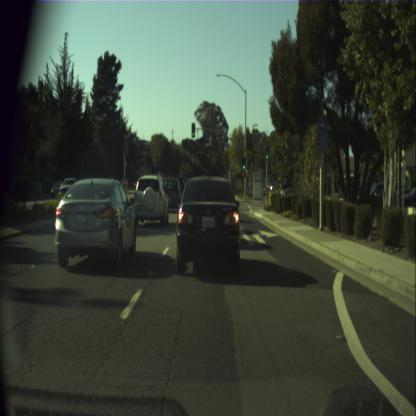Green: (191, 122, 195, 136), (242, 156, 245, 170), (266, 146, 269, 158)
